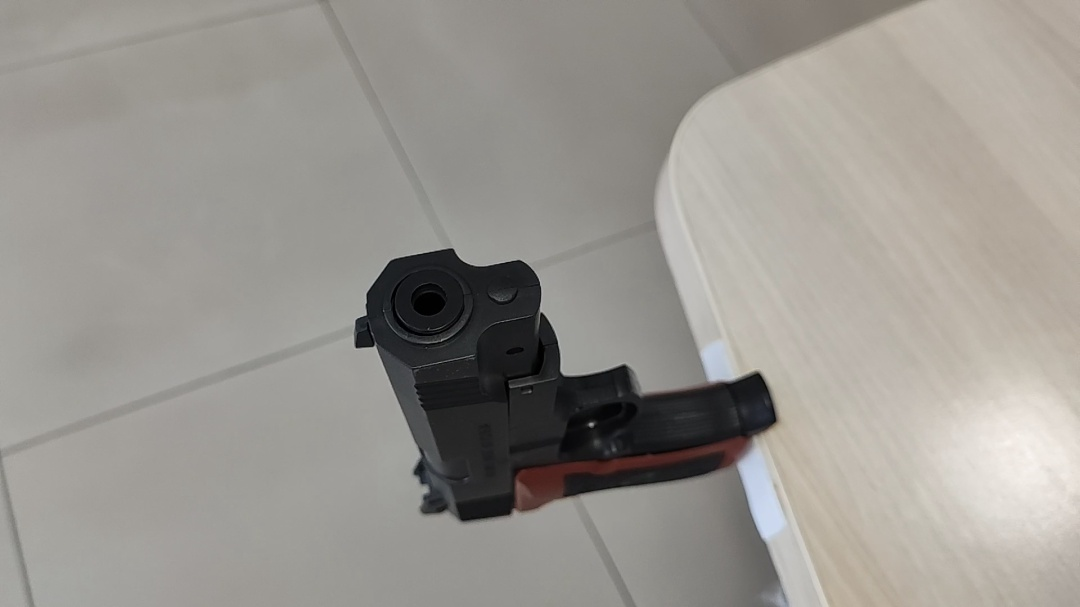gun: (357, 248, 779, 522)
